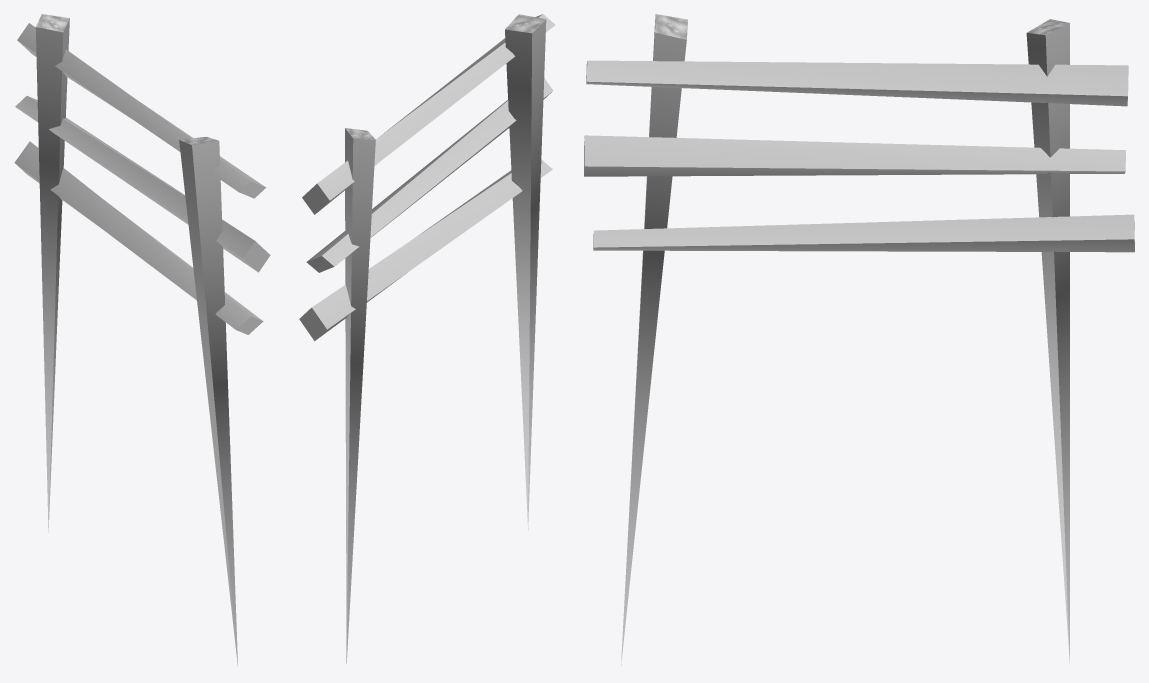
Rendered from fence03.obj.
The picture shows the model from 3 angles, left to right: view 1: azimuth 30°, elevation 25°; view 2: azimuth 150°, elevation 25°; view 3: azimuth 270°, elevation 25°; orthographic projection. The views are drawn at different scales.
Parts seen in each view (by area): view 1: Duplicate04, Duplicate01, Duplicate02, Duplicate03, Box01; view 2: Duplicate04, Duplicate01, Duplicate02, Duplicate03, Duplicate05; view 3: Duplicate01, Duplicate03, Duplicate02, Duplicate04.
Boxes of the visible parts, left/top/right/bottom form: Duplicate04: left=179, top=140, right=237, bottom=665; Duplicate01: left=15, top=23, right=270, bottom=272; Duplicate02: left=35, top=18, right=69, bottom=532; Duplicate03: left=14, top=141, right=263, bottom=334; Box01: left=36, top=14, right=69, bottom=32; Duplicate04: left=505, top=19, right=546, bottom=530; Duplicate01: left=302, top=14, right=555, bottom=272; Duplicate02: left=345, top=128, right=375, bottom=663; Duplicate03: left=299, top=159, right=552, bottom=341; Duplicate05: left=505, top=14, right=545, bottom=33; Duplicate01: left=584, top=60, right=1128, bottom=176; Duplicate03: left=593, top=214, right=1134, bottom=252; Duplicate02: left=1026, top=23, right=1069, bottom=663; Duplicate04: left=621, top=19, right=686, bottom=665.
Bounding box in the file's own units: 12.74 × 128 × 100.
